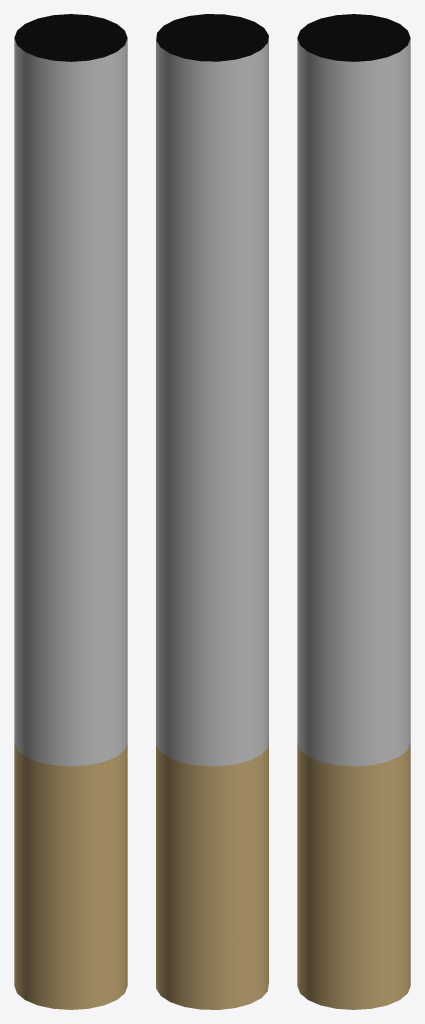
File: Cig.fbx
The picture shows the model from 3 angles, left to right: view 1: azimuth 90°, elevation 25°; view 2: azimuth 150°, elevation 25°; view 3: azimuth 270°, elevation 25°; orthographic projection.
Parts seen in each view (by area): view 1: pCylinder1; view 2: pCylinder1; view 3: pCylinder1.
Part boxes in pixels (left/top/right/bottom): pCylinder1: left=14, top=14, right=127, bottom=1009; pCylinder1: left=156, top=14, right=268, bottom=1009; pCylinder1: left=297, top=14, right=410, bottom=1009.
Bounding box in the file's own units: 0.1065 × 0.9838 × 0.1065.
